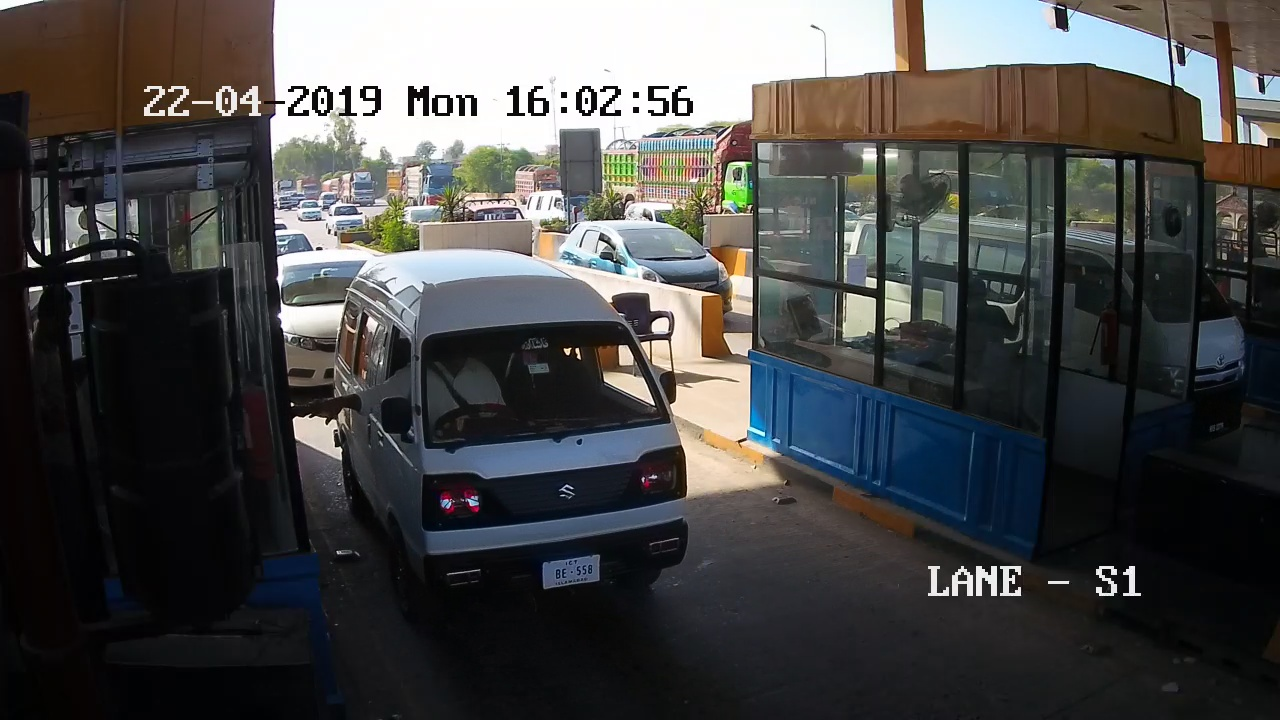car: (349, 274, 695, 615)
